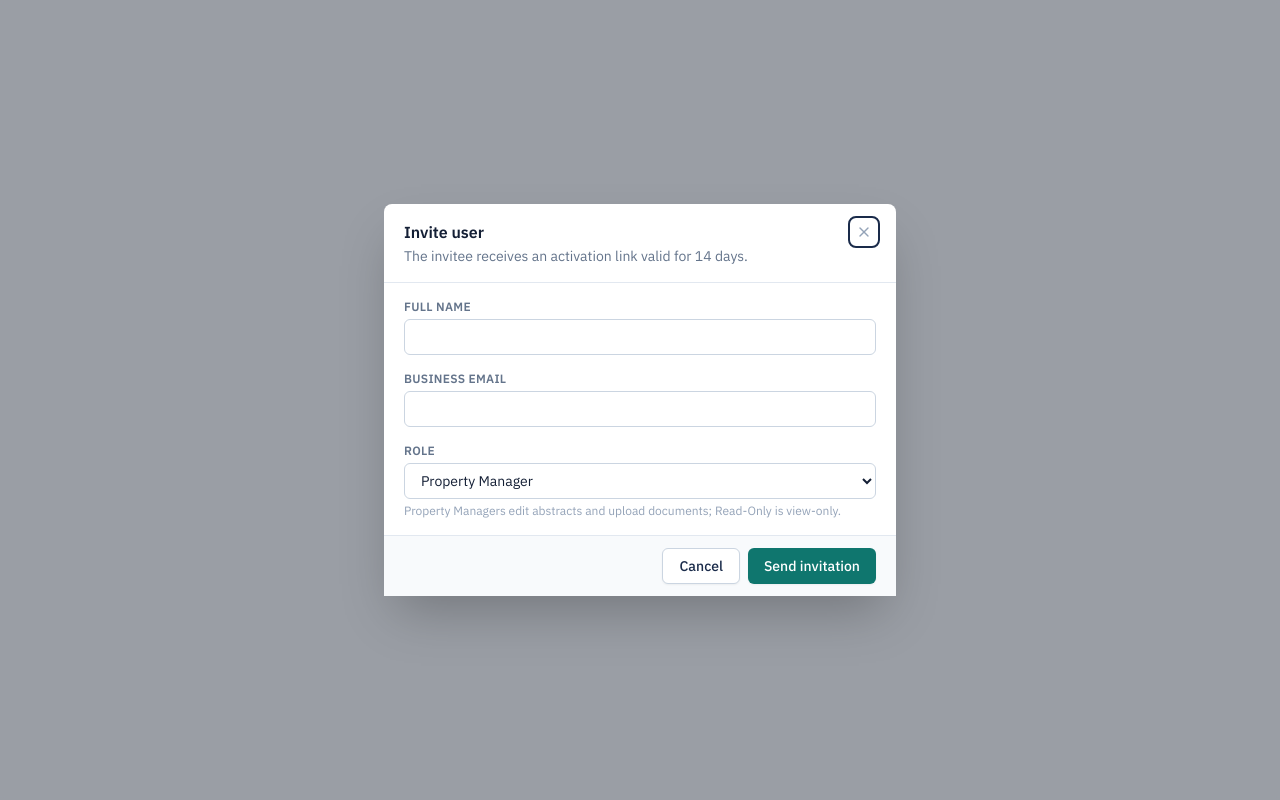
Test case: InviteUserModal › resets and closes via cancel
In the field with id "invite-name": x=640, y=337 left=404, top=319, right=876, bottom=355, type "Someone"
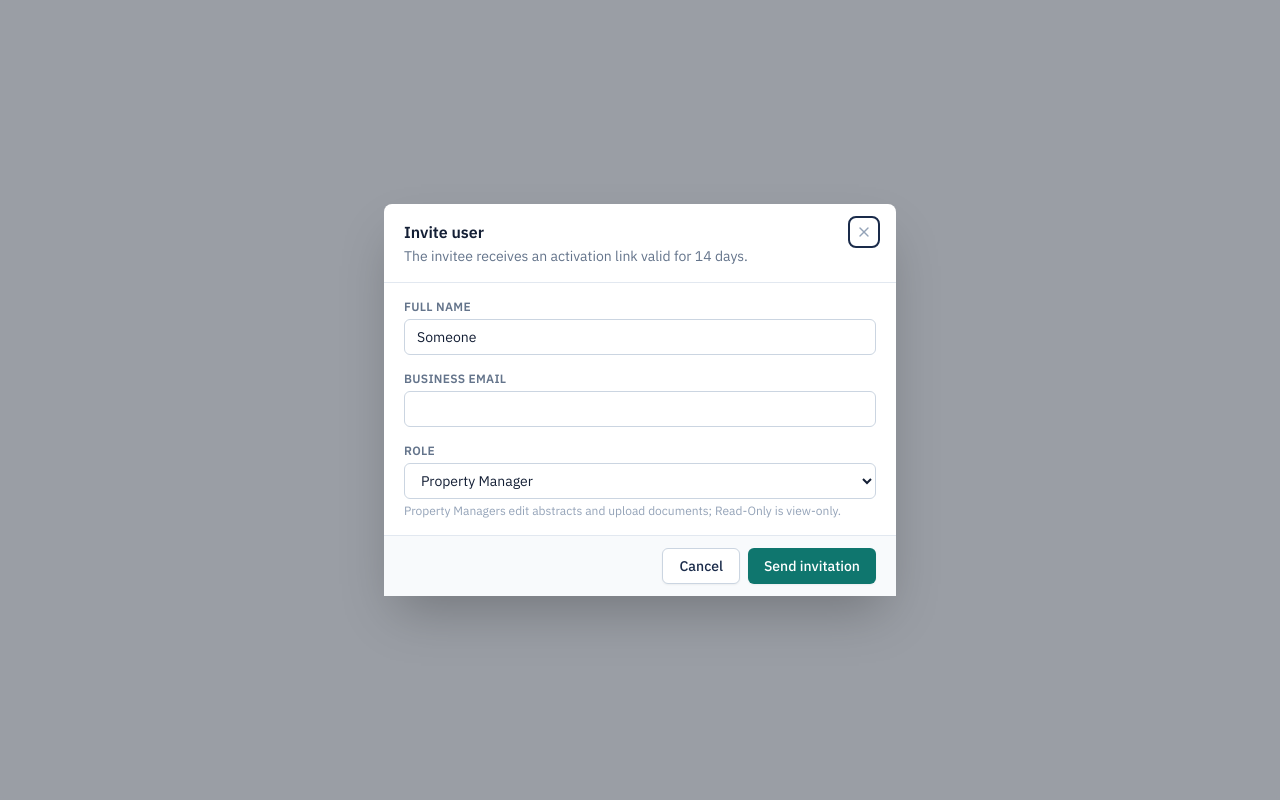
Click the button "Cancel": x=701, y=566 left=662, top=548, right=740, bottom=584
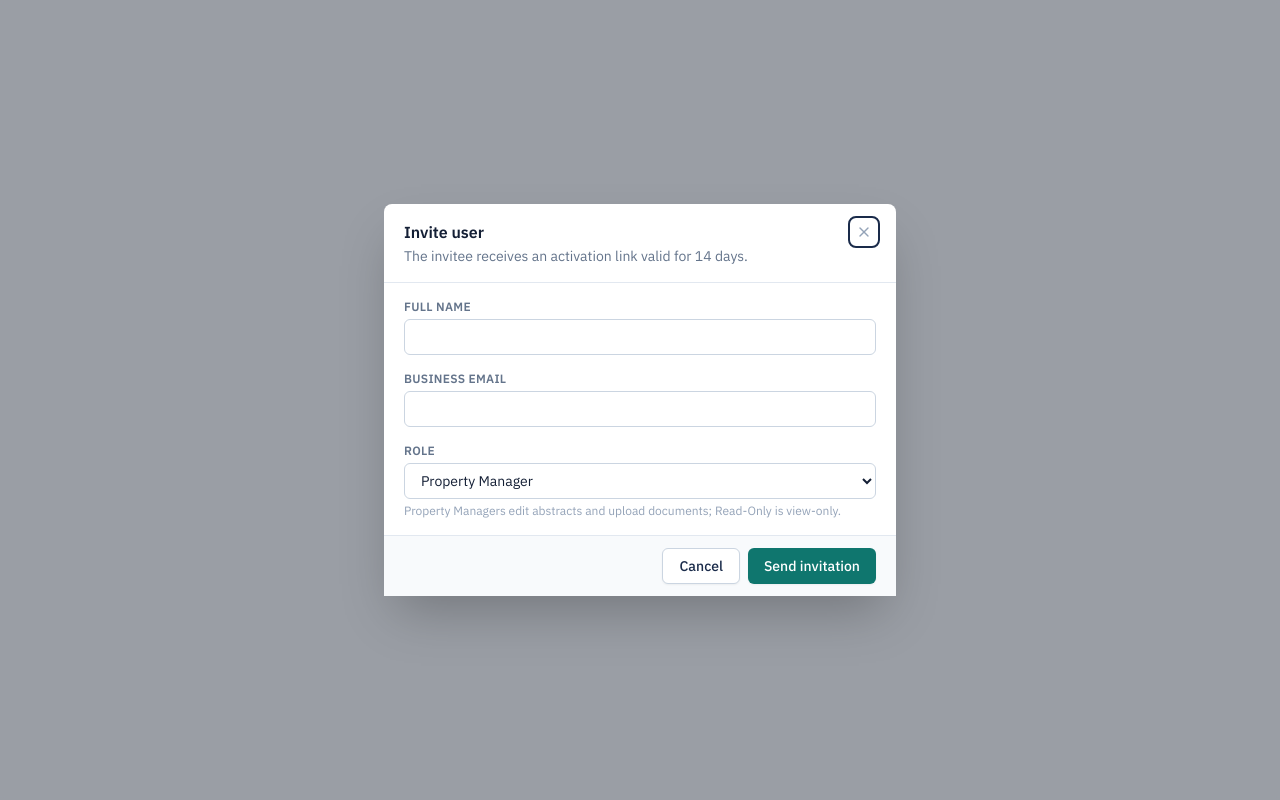
Submit the form with id "invite-user-form", box left=404, top=299, right=876, bottom=519
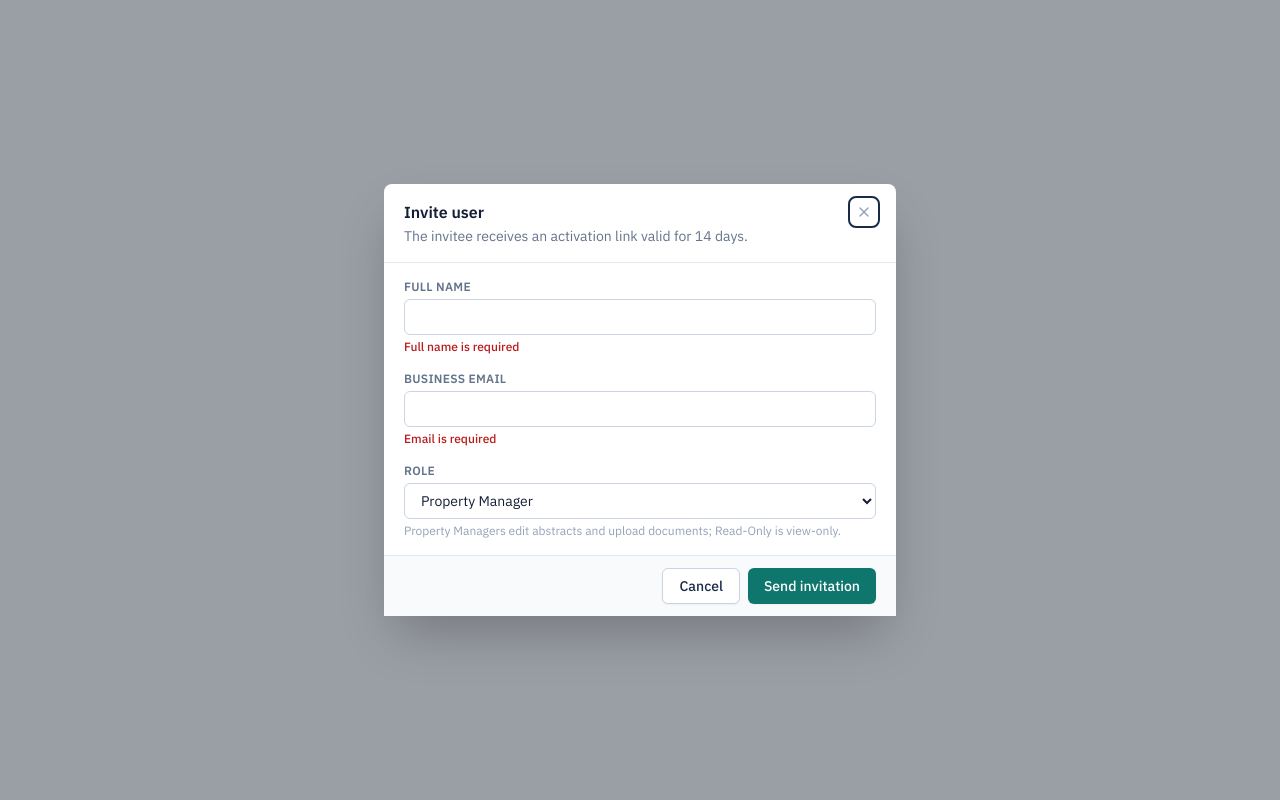
Result: the text "Full name is required" is shown at left=404, top=339, right=519, bottom=354
